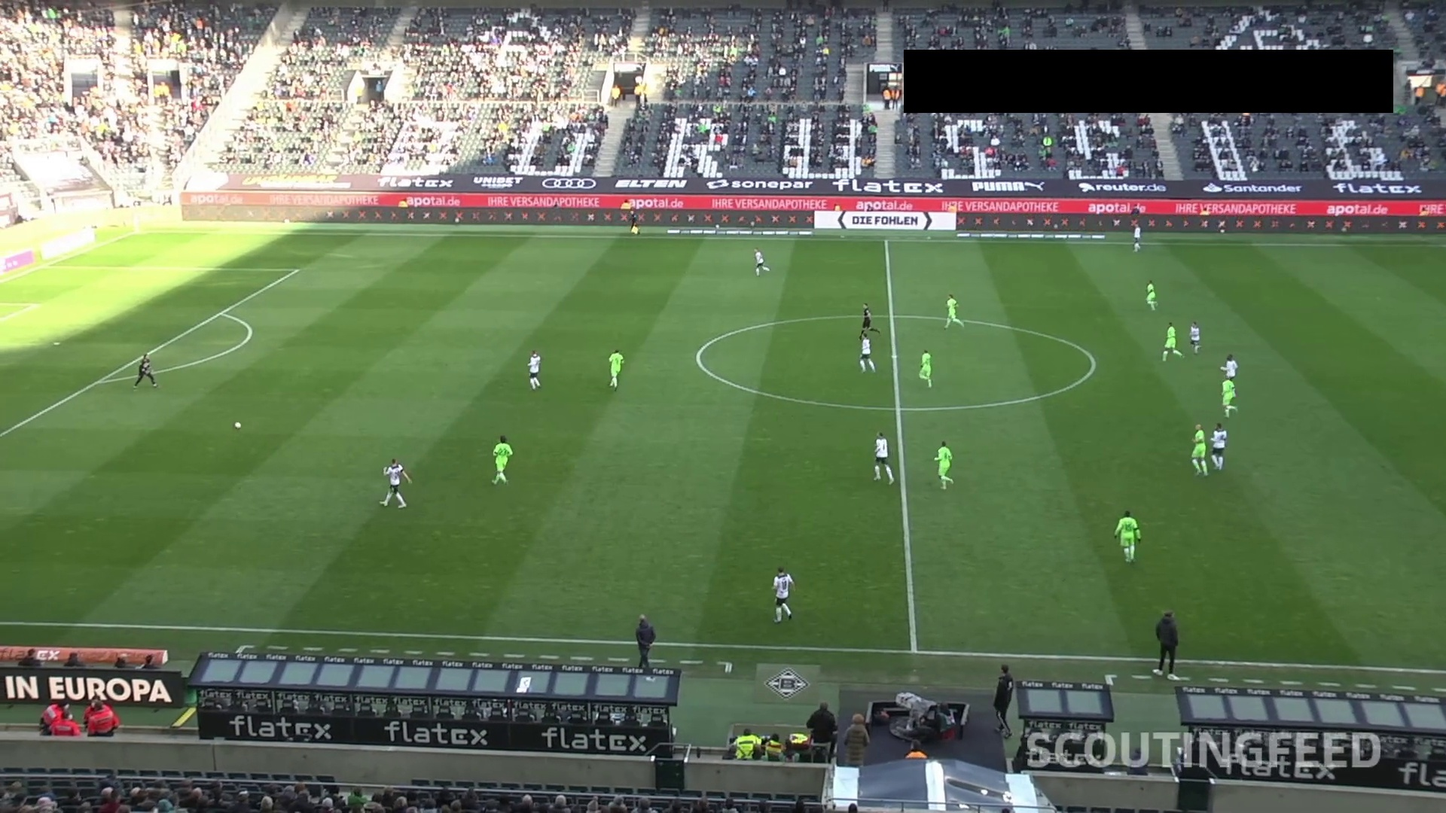ball: (333, 427, 362, 451)
goalkeeper: (123, 317, 166, 382)
player: (643, 317, 687, 366), (701, 382, 745, 431), (1019, 333, 1063, 382), (1106, 480, 1150, 528), (470, 447, 513, 496), (600, 341, 643, 390), (774, 366, 817, 415), (904, 366, 947, 415), (1164, 366, 1207, 415), (1193, 447, 1236, 496), (1222, 463, 1265, 512)
referee: (730, 333, 774, 382)
